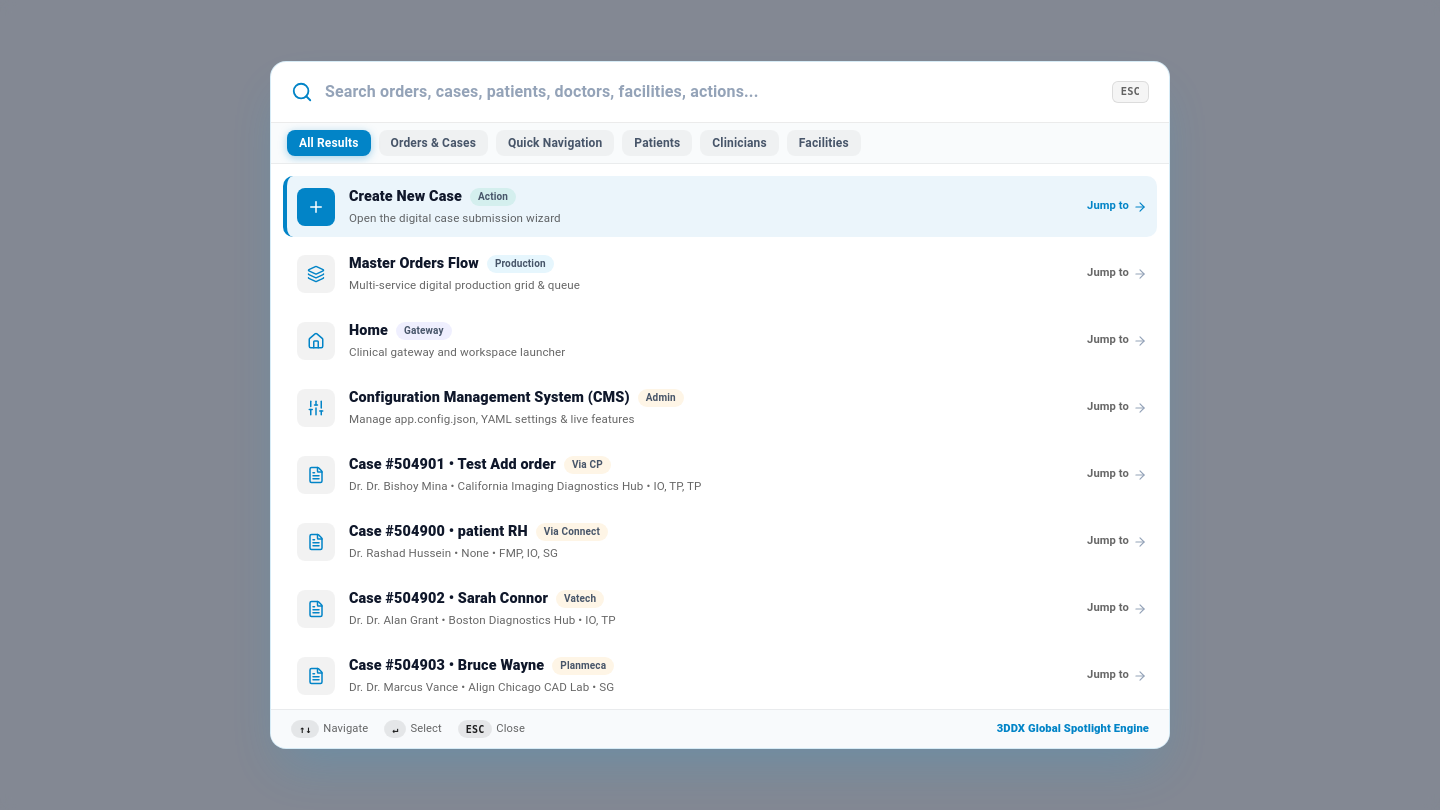
it: Global Search Improvement (UIUX-REQ-009) › Default Recommendations & Category Filtering › displays no-results empty state when search term has no matches
Step 1. Replace the text in the field named "search clinical repository" with "nonexistent-query-xyz-999" → (712, 92), box [325,76,1100,108]
Wait 160 ms
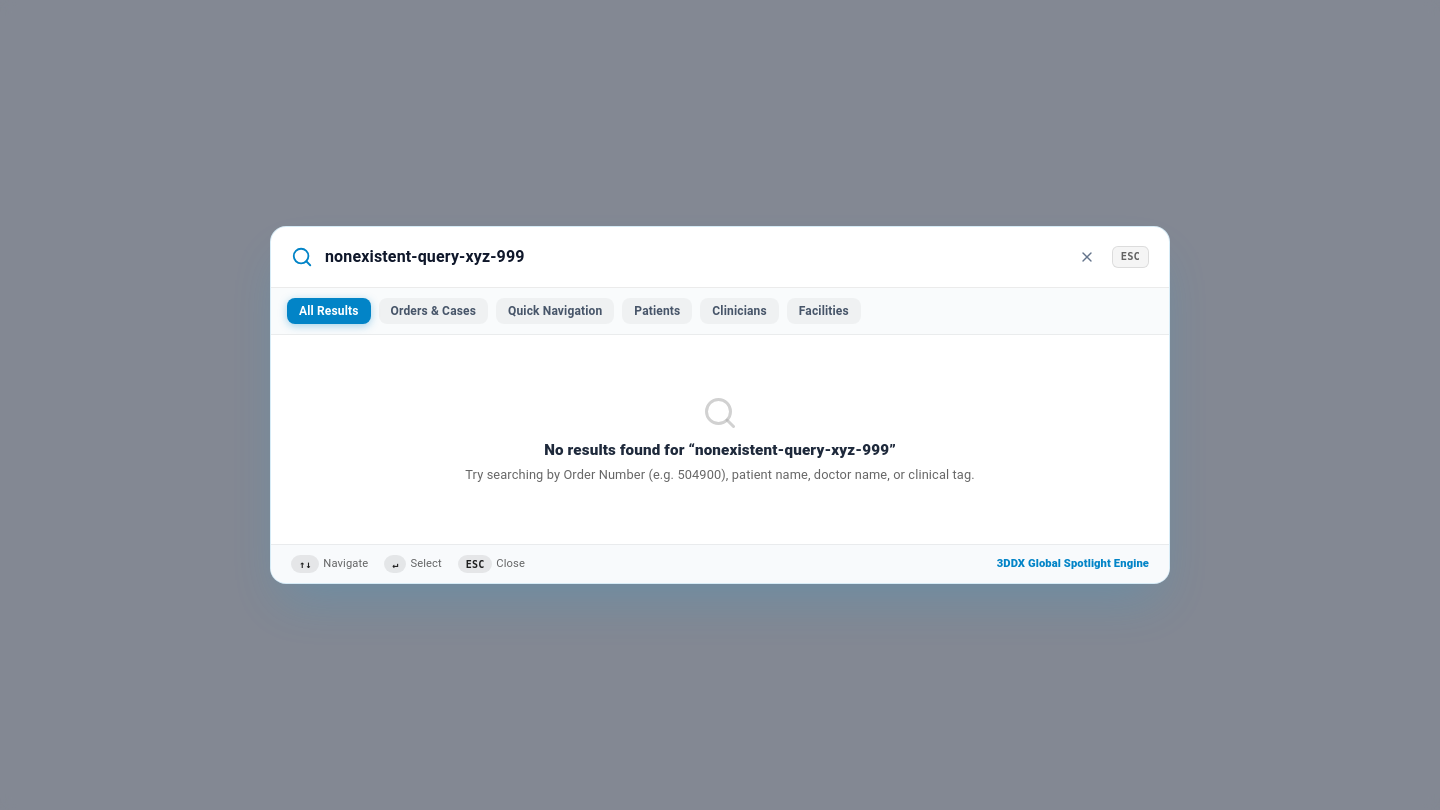
Now the text "No results found for “nonexistent-query-xyz-999”" is shown, box [544,440,896,458]
Now the text "Try searching by Order Number" is shown, box [465,467,975,482]
